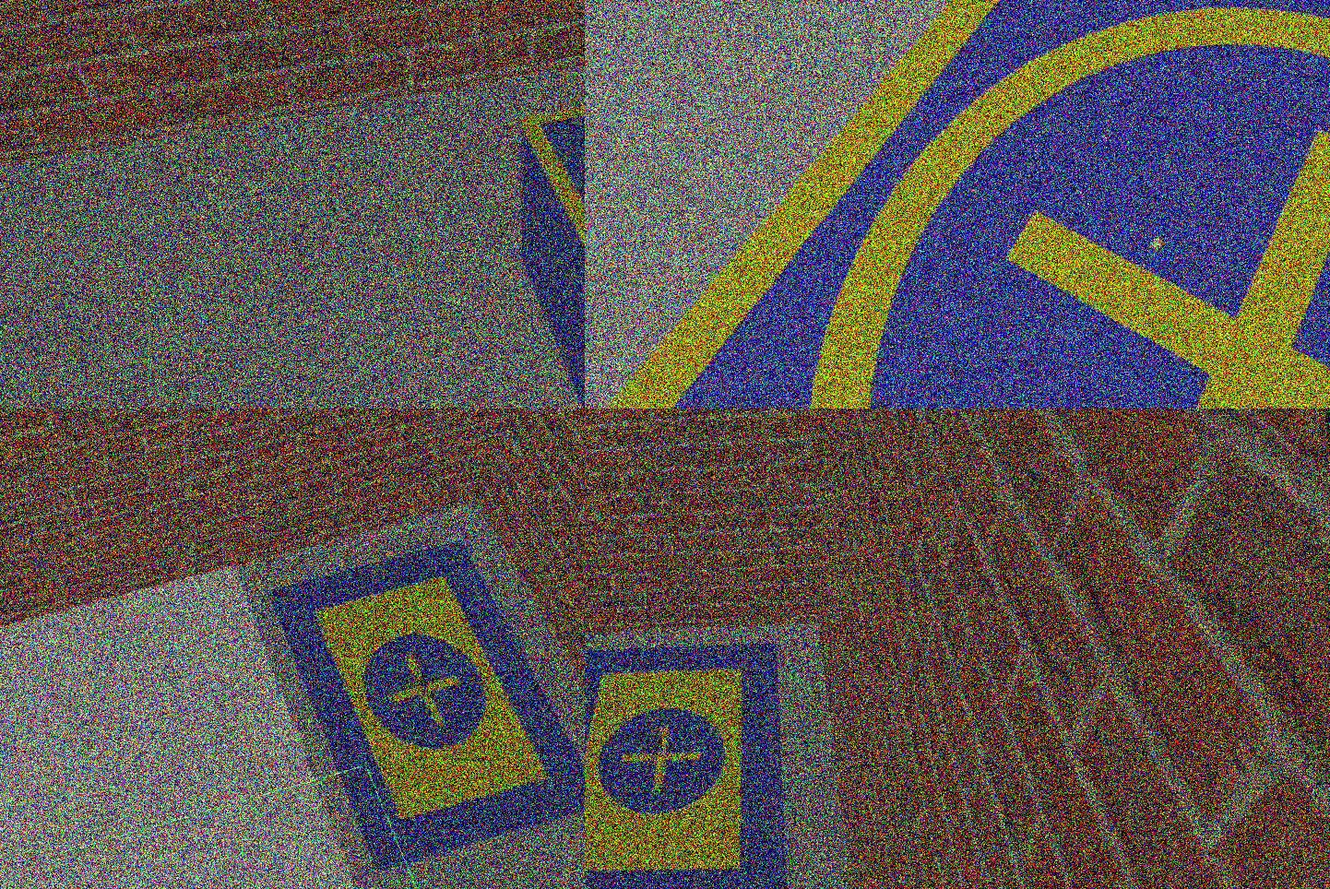large_base: (261, 527, 585, 875), (585, 627, 803, 889)
small_base: (585, 1, 1330, 409)
